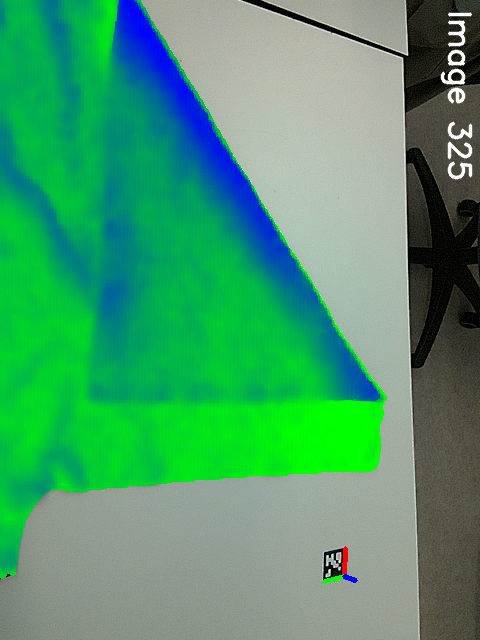V: (74, 349, 131, 413)
